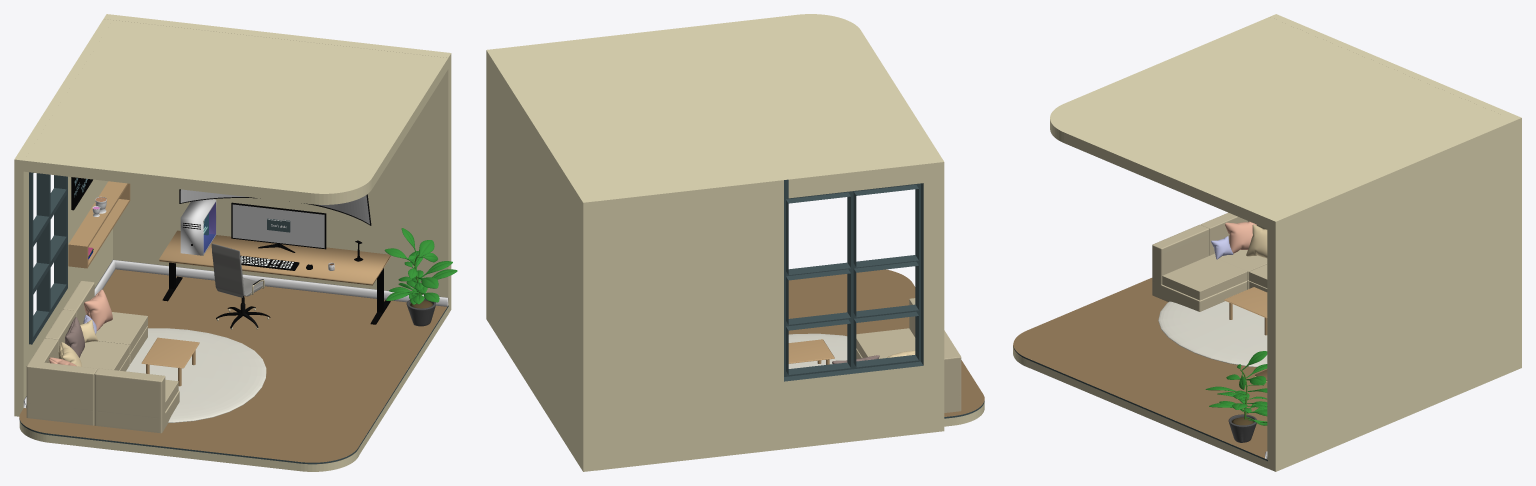
Rendered from portfolio_v2_room_center.glb.
The picture shows the model from 3 angles, left to right: view 1: azimuth 30°, elevation 25°; view 2: azimuth 150°, elevation 25°; view 3: azimuth 270°, elevation 25°; orthographic projection. The views are drawn at different scales.
Parts seen in each view (by area): view 1: Walll.004, Wall.001, Walll.001, Plane.004, Table.003, Cube.090, Cube.091, Monitor.001, Table.001, Cube.061, PC.001, Cylinder.001 (+12 smaller); view 2: Wall.001, Walll.004, Walll.001, Cube.089, Cube.090, Plane.004, couchtable.001; view 3: Walll.001, Walll.004, Wall.001, Plane.004, Cube.091, Cube.089, couchtable.001, Cube.090, Plane.028, Cube.086, Plane.027.
Part boxes in pixels (left/top/right/bottom): Walll.004: left=14, top=20, right=448, bottom=204; Wall.001: left=14, top=19, right=448, bottom=471; Walll.001: left=103, top=14, right=451, bottom=313; Plane.004: left=126, top=328, right=266, bottom=422; Table.003: left=159, top=230, right=390, bottom=285; Cube.090: left=26, top=338, right=97, bottom=425; Cube.091: left=94, top=368, right=179, bottom=433; Monitor.001: left=232, top=204, right=324, bottom=248; Table.001: left=68, top=181, right=130, bottom=268; Cube.061: left=113, top=259, right=448, bottom=306; PC.001: left=180, top=199, right=216, bottom=255; Cylinder.001: left=211, top=243, right=244, bottom=297; Wall.001: left=593, top=158, right=984, bottom=470; Walll.004: left=499, top=14, right=941, bottom=214; Walll.001: left=486, top=48, right=595, bottom=471; Cube.089: left=856, top=328, right=915, bottom=358; Cube.090: left=944, top=330, right=961, bottom=412; Plane.004: left=788, top=333, right=847, bottom=368; couchtable.001: left=788, top=339, right=834, bottom=363; Walll.001: left=1267, top=114, right=1521, bottom=471; Walll.004: left=1050, top=17, right=1506, bottom=228; Wall.001: left=1013, top=14, right=1512, bottom=468; Plane.004: left=1158, top=301, right=1267, bottom=367; Cube.091: left=1152, top=224, right=1247, bottom=311; Cube.089: left=1162, top=255, right=1247, bottom=300; couchtable.001: left=1224, top=287, right=1267, bottom=318; Cube.090: left=1200, top=212, right=1267, bottom=289; Plane.028: left=1225, top=221, right=1256, bottom=253; Cube.086: left=1210, top=250, right=1267, bottom=280; Plane.027: left=1246, top=224, right=1267, bottom=258.
Bounding box in the file's own units: 11.2 × 6.13 × 11.3.
